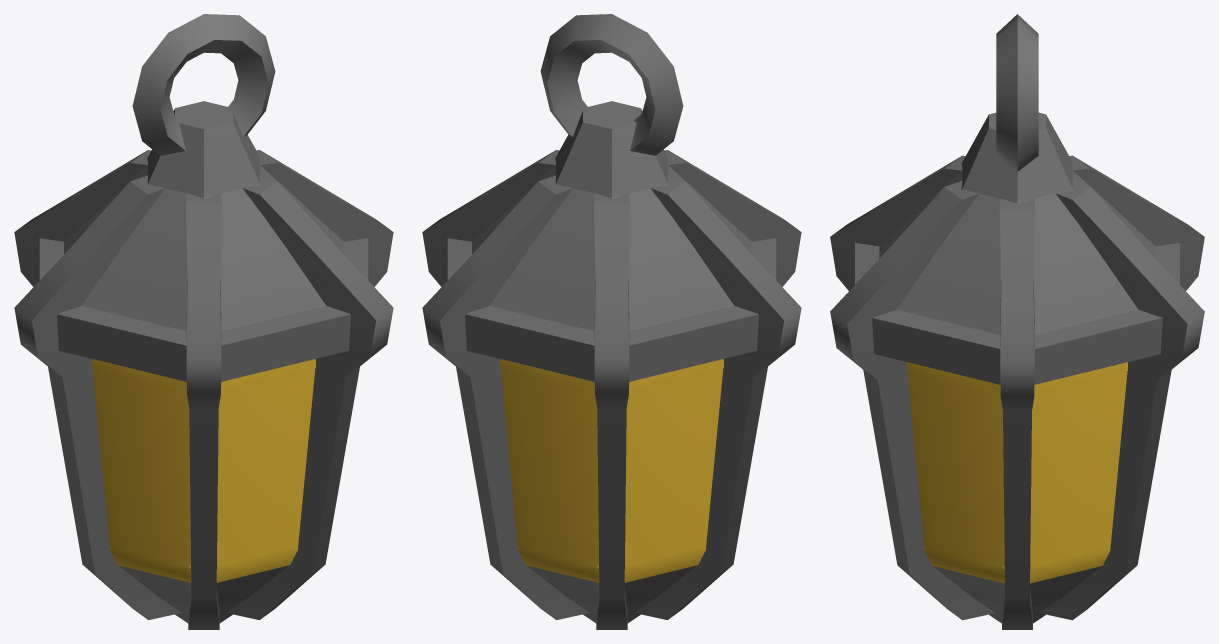
File: Lamp_D.fbx
The picture shows the model from 3 angles, left to right: view 1: azimuth 30°, elevation 25°; view 2: azimuth 150°, elevation 25°; view 3: azimuth 270°, elevation 25°; orthographic projection.
Parts seen in each view (by area): view 1: Lamp_D; view 2: Lamp_D; view 3: Lamp_D.
Boxes of the visible parts, x1,y1,x2,y2 form: Lamp_D: (14,14,393,629); Lamp_D: (422,14,801,629); Lamp_D: (830,14,1204,629).
Bounding box in the file's own units: 41.64 × 66.65 × 37.8.
